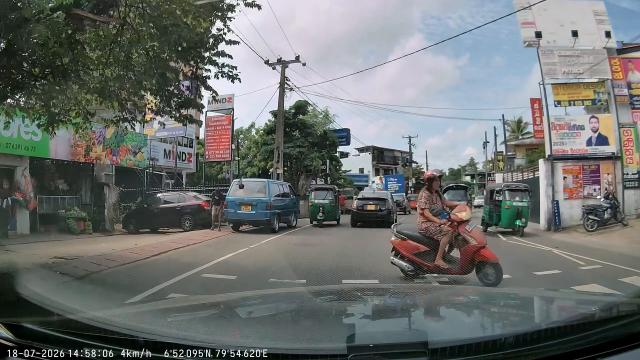illegal u turn: (391, 167, 511, 289)
